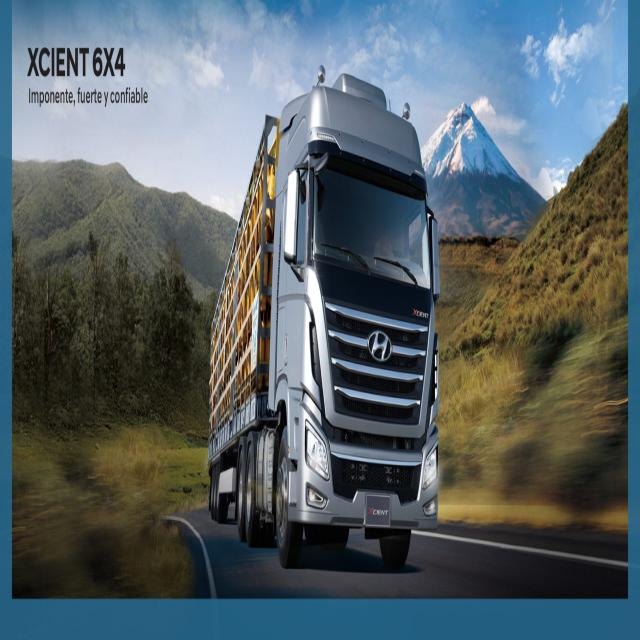TRUCK: (206, 81, 436, 567)
